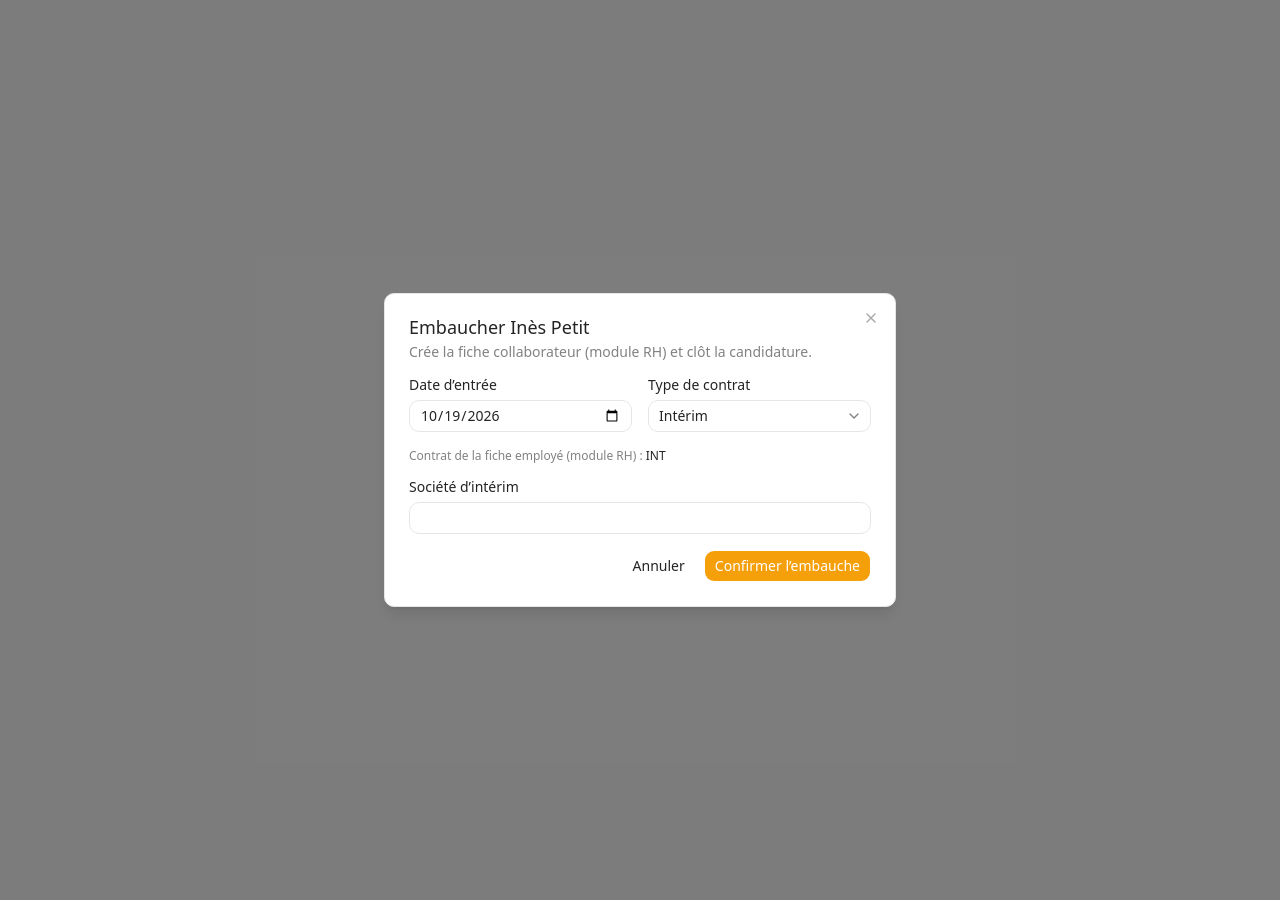
Test: EmbaucheDialog › intérim : société d’intérim obligatoire (CHECK employes)
The width and height of the screenshot is (1280, 900).
Expected: the text "INT" is shown, [646,447,666,464]
Click the button "Confirmer l’embauche" at (787, 566), box [704,550,871,582]
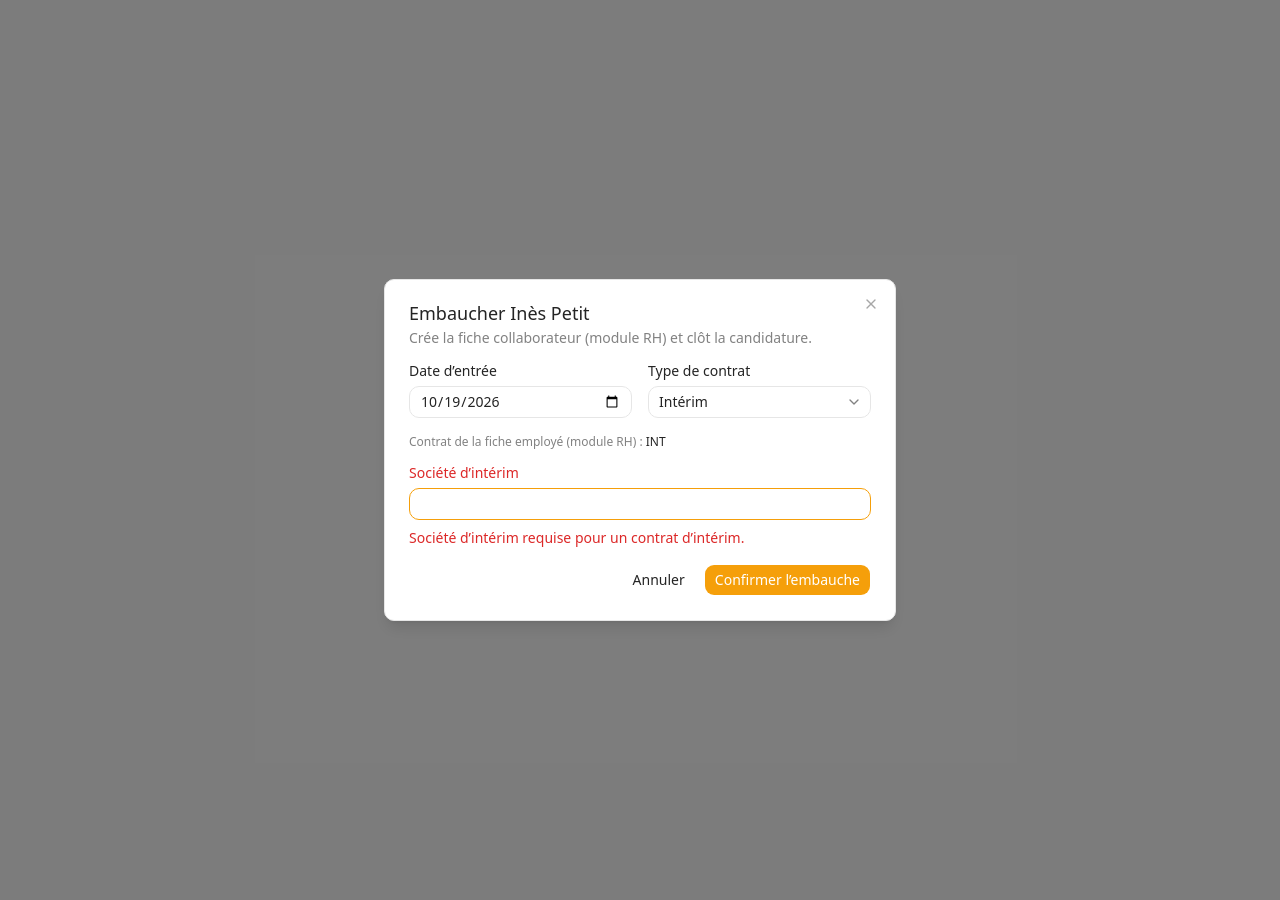
Result: the text "Société d’intérim requise pour un contrat d’intérim." is shown at [409,528,744,547]
